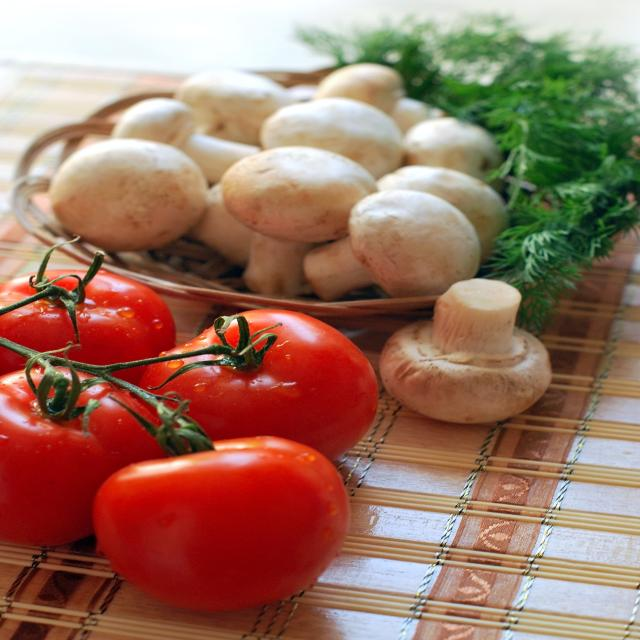Tomato: (95, 380, 376, 621), (162, 312, 407, 458), (3, 254, 180, 392)
